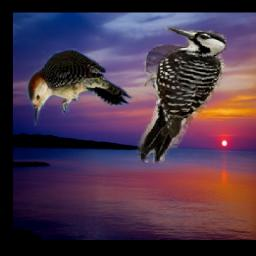Woodpecker: (136, 28, 227, 164), (19, 49, 135, 128)
